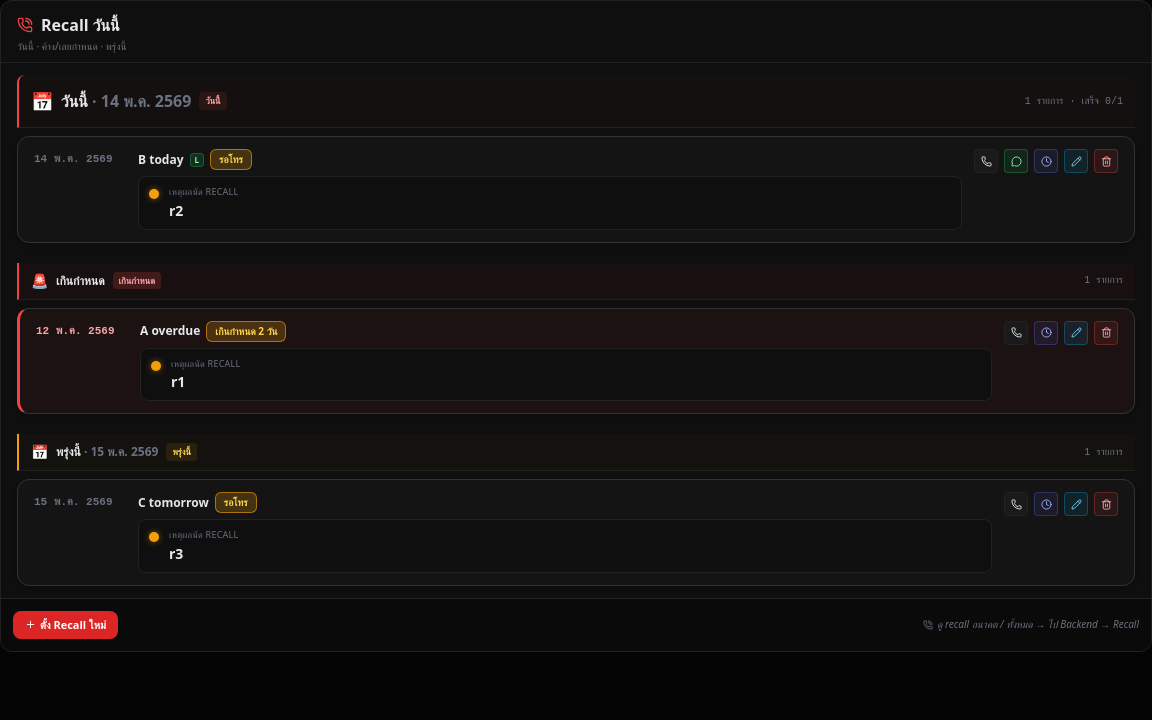
it: Phase 29 · F2 RecallFrontendView interactions › F2.1 create button opens create modal
Click the button with test id "recall-frontend-create".
click(66, 625)  # box top-left (13, 610), bottom-right (118, 639)
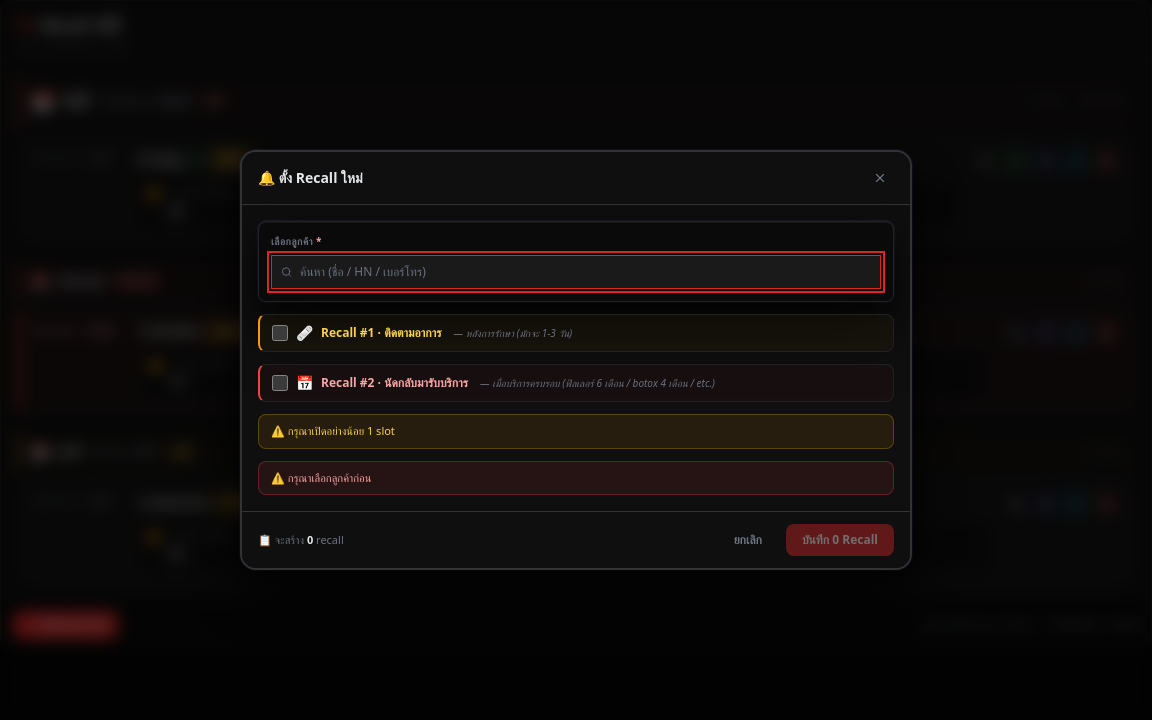
expect the element with test id "recall-create-modal" is shown: met
